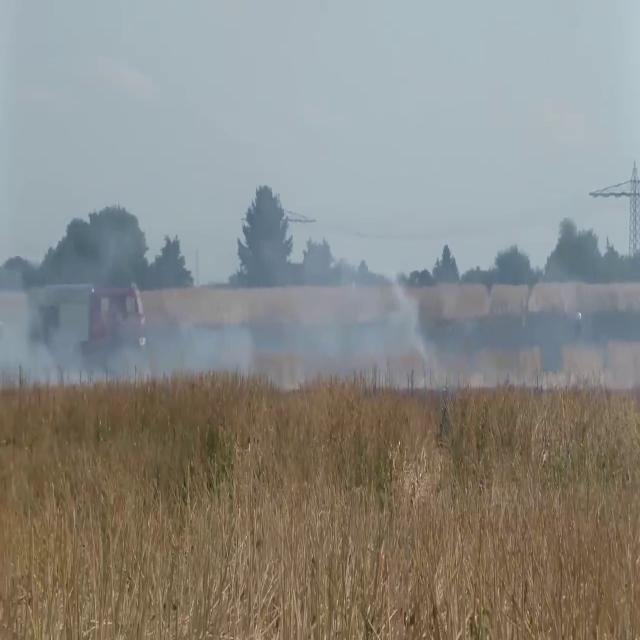Smoke: (0, 191, 433, 405)
